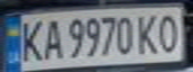0: (115, 12, 136, 56)
7: (100, 12, 118, 57)
9: (81, 14, 103, 58), (63, 14, 84, 58)
A: (39, 16, 63, 61)
K: (133, 11, 163, 55), (18, 16, 45, 63)
O: (154, 10, 184, 54)
